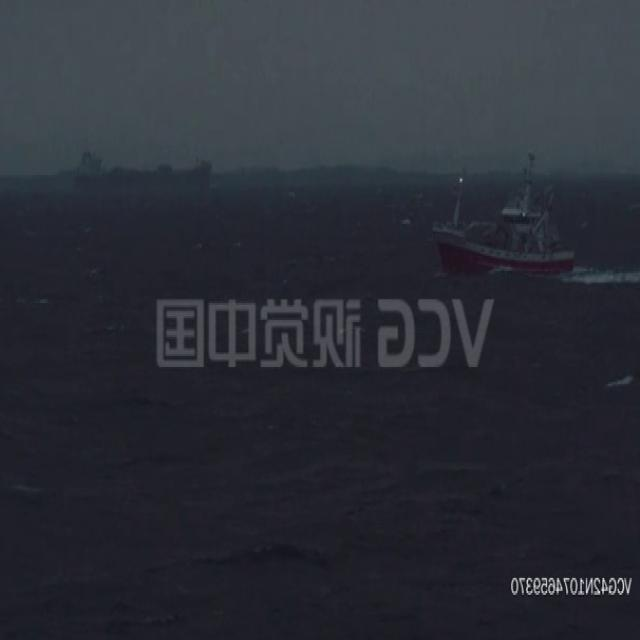houseboat: (432, 165, 577, 272)
